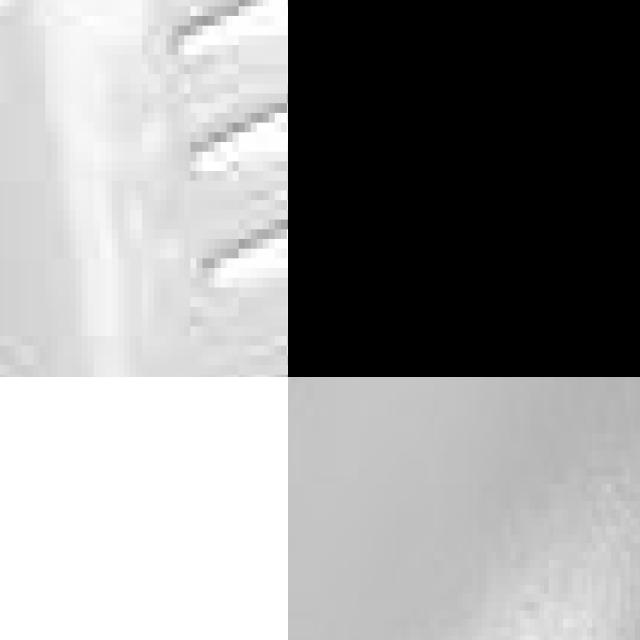forks: (0, 0, 288, 377)
spoons: (288, 377, 640, 640)
